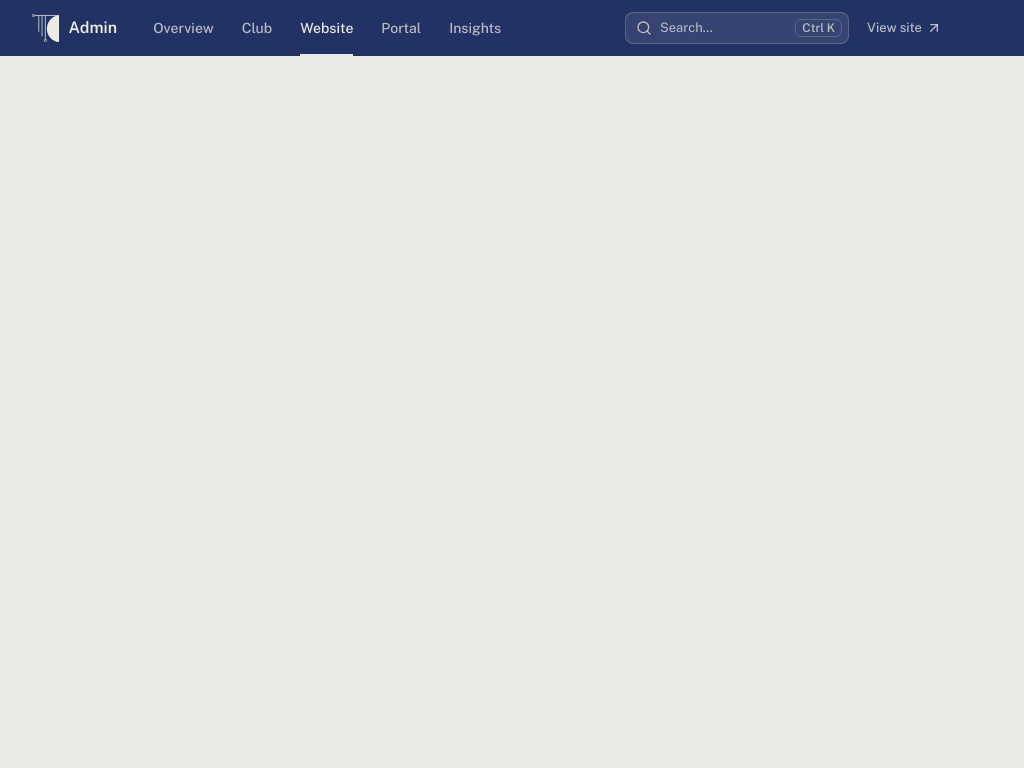
Test: CommandPalette › filters screens and actions as you type
Press k
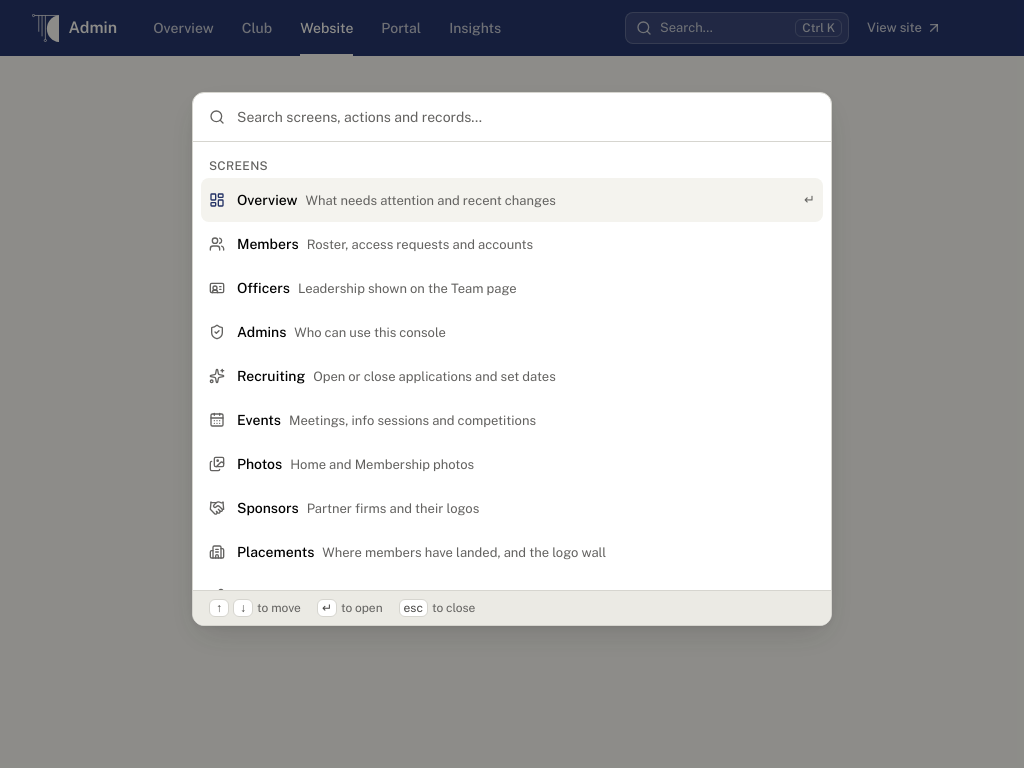
In the dropdown: (526, 117) 237,93 -> 815,141, type "spons"
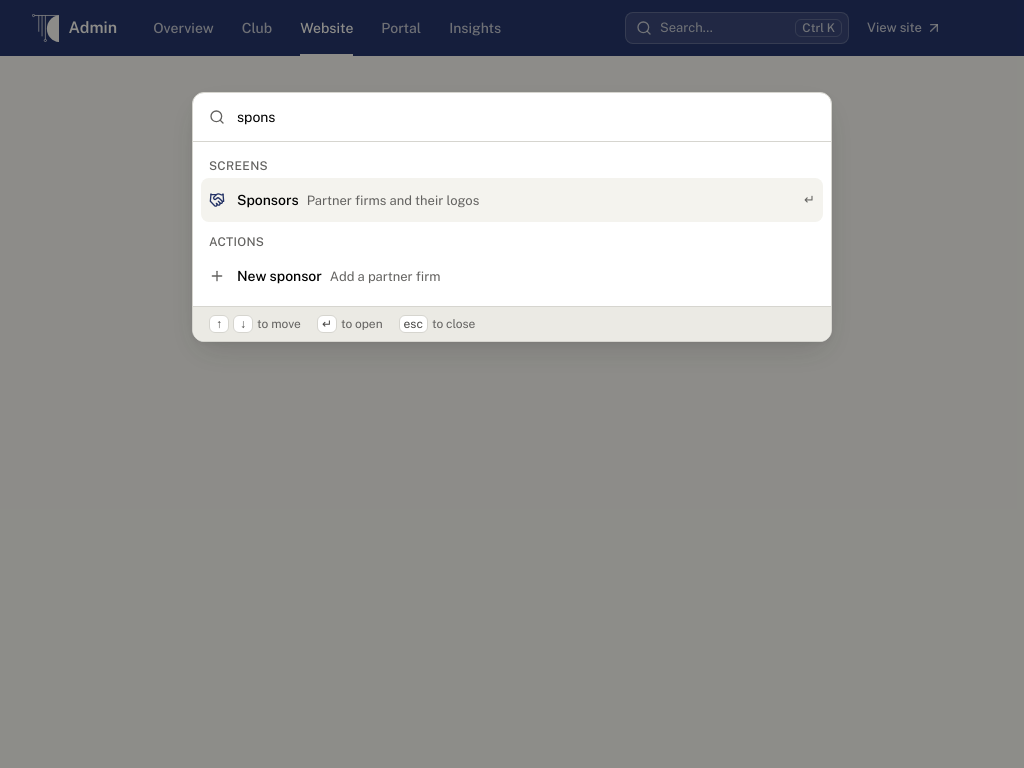
Result: the option that starts with "Sponsors" is shown at 201,178 -> 823,222
Result: the 2nd option shows "New sponsor" at 209,268 -> 441,284
